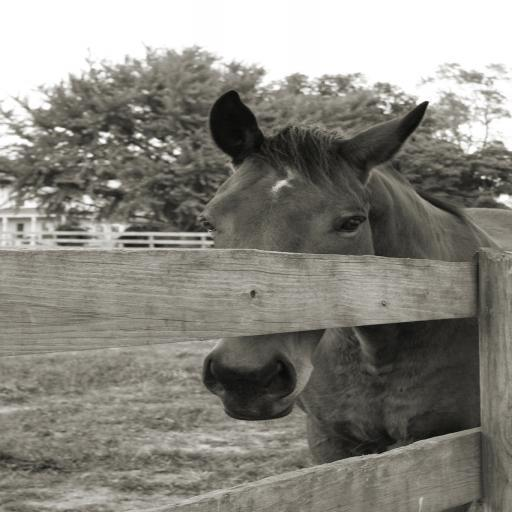horse: (198, 88, 512, 512)
